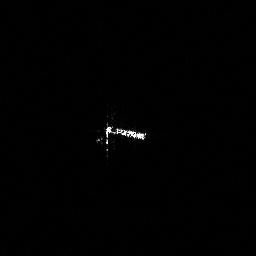ship: (106, 124, 146, 140)
